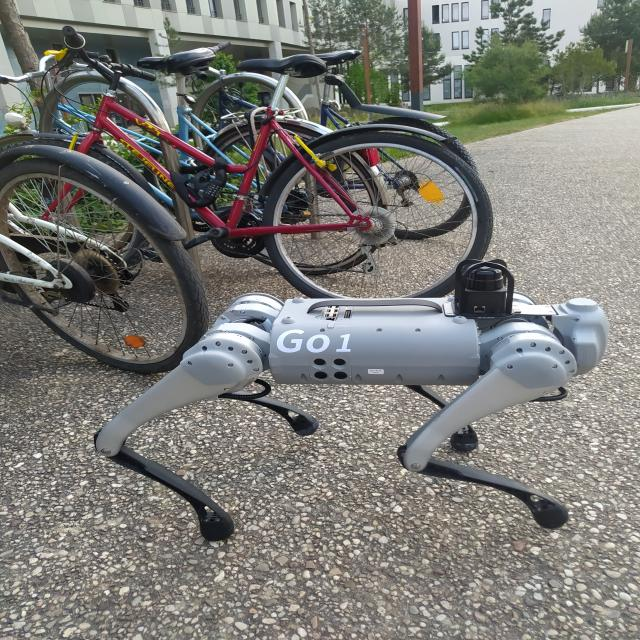unitree-go1-robot: (107, 259, 605, 534)
